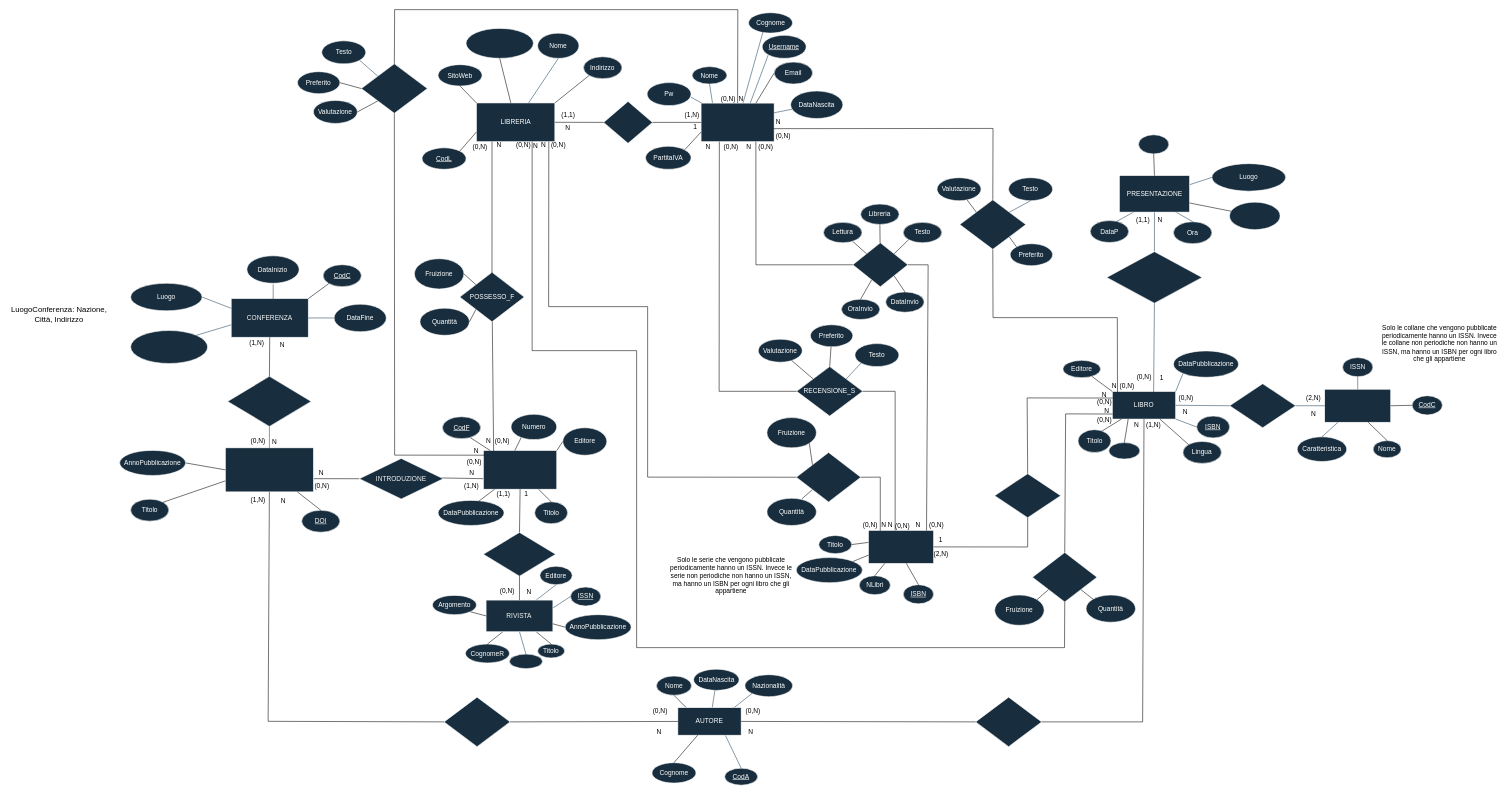
Image size: 1509x795. Some labels were removed from this diagram. The shapes that lost their labels are listed below. From the top down, each one's centre as x and y in pixels, then its label:
At pixel 499 43: "NumeroTelefonico".
At pixel 394 88: "RECENSIONE_F".
At pixel 627 122: "GESTIONE".
At pixel 737 122: "UTENTE".
At pixel 1153 144: "CodP".
At pixel 992 224: "RECENSIONE_L".
At pixel 1254 216: "Struttura".
At pixel 880 264: "NOTIFICA".
At pixel 1154 277: "PARTECIPAZIONE".
At pixel 169 346: "StrutturaOrganizzatrice".
At pixel 269 401: "ESPOSIZIONE".
At pixel 1262 405: "APPARTENENZA".
At pixel 1357 405: "COLLANA".
At pixel 269 469: "ARTICOLO_SCIENTIFICO".
At pixel 520 469: "FASCICOLO".
At pixel 1124 450: "Genere".
At pixel 828 477: "POSSESSO_S".
At pixel 1027 495: "INSERIMENTO".
At pixel 519 554: "COMPOSIZIONE".
At pixel 901 546: "SERIE".
At pixel 1064 577: "POSSESSO_L".
At pixel 525 661: "NomeR".
At pixel 477 722: "SCRITTUTA_A".
At pixel 1008 722: "SCRITTUTA_L".
